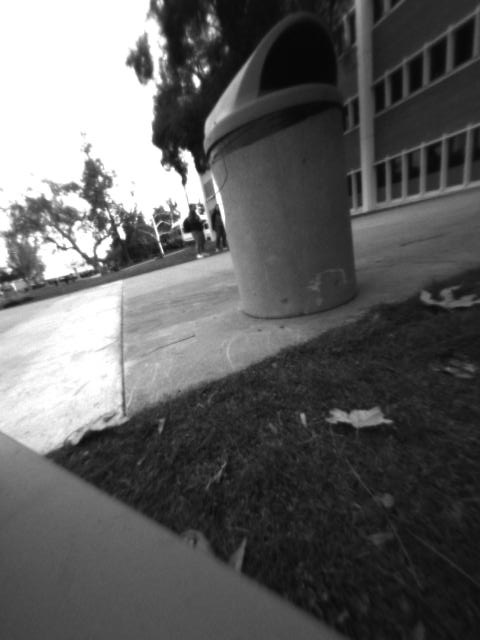trashcan: (203, 14, 375, 317)
